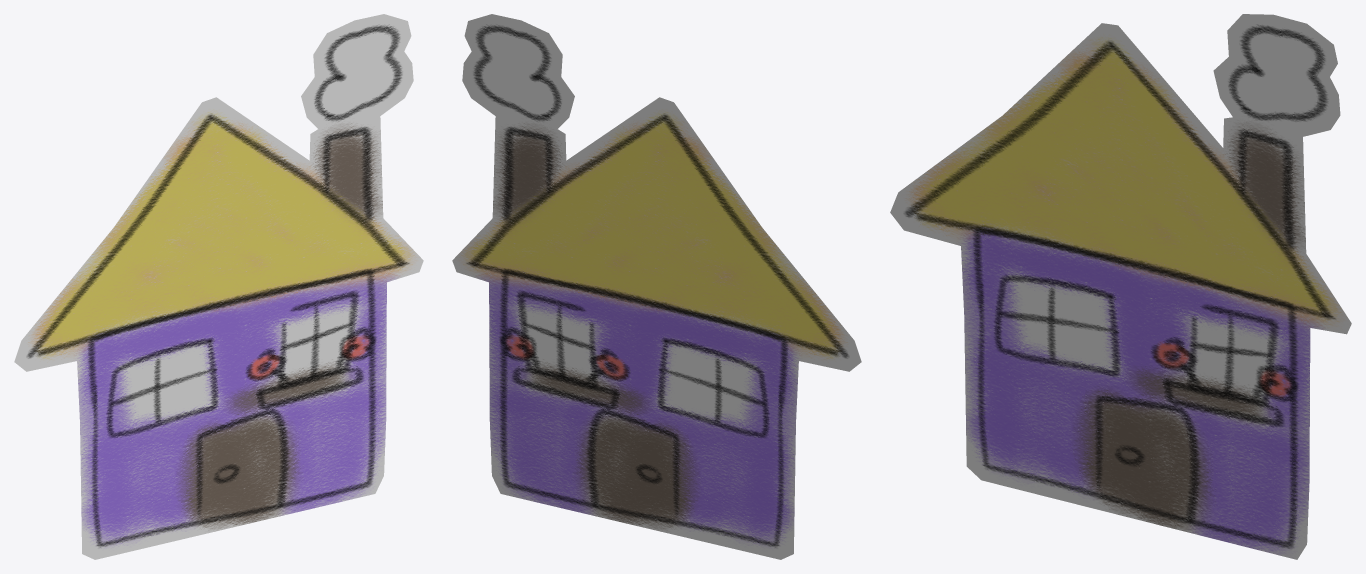
The model's file is Hus1.fbx.
3 renders of one model, left to right at view 1: azimuth 30°, elevation 25°; view 2: azimuth 150°, elevation 25°; view 3: azimuth 330°, elevation 25°, orthographic. The views are drawn at different scales.
Visible parts, largest first — view 1: Plane.013; view 2: Plane.013; view 3: Plane.013.
Boxes of the visible parts, left/top/right/bottom form: Plane.013: left=14, top=14, right=423, bottom=559; Plane.013: left=452, top=14, right=861, bottom=559; Plane.013: left=890, top=14, right=1351, bottom=559.
Size of the model in its own units: 391 by 437 by 7.1e-05.
Materials: 1 (1 with a texture image).
